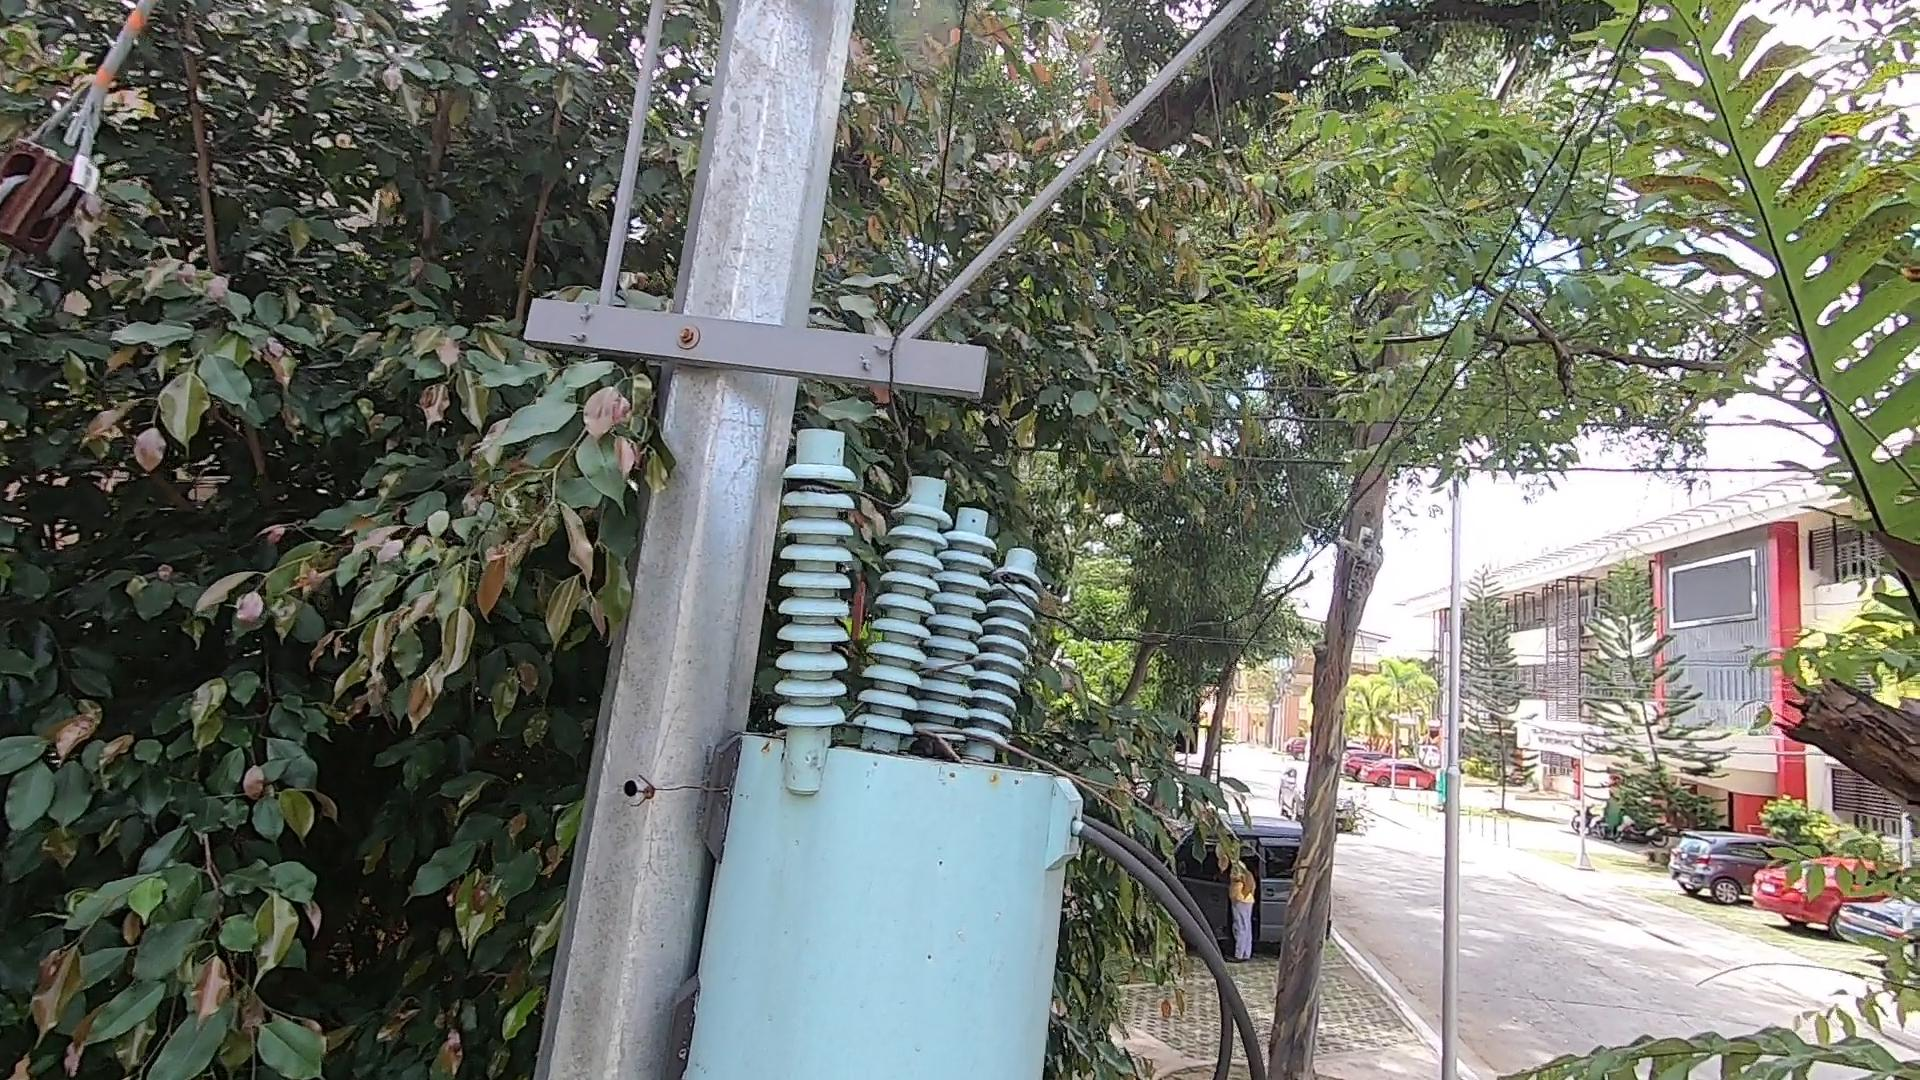leaf: (897, 717, 963, 766)
tree branch: (855, 707, 1170, 833)
